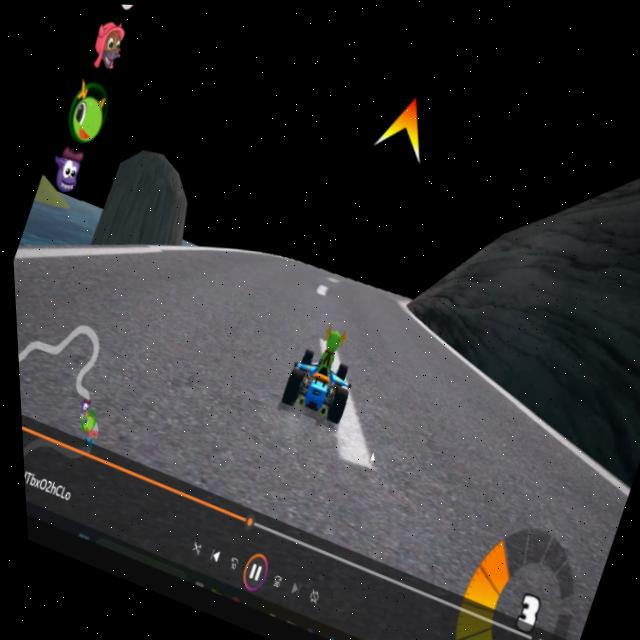off_track: (480, 246, 640, 415), (81, 180, 192, 252)
player_kart: (264, 309, 372, 446)
track: (110, 248, 304, 452), (270, 244, 410, 339)
